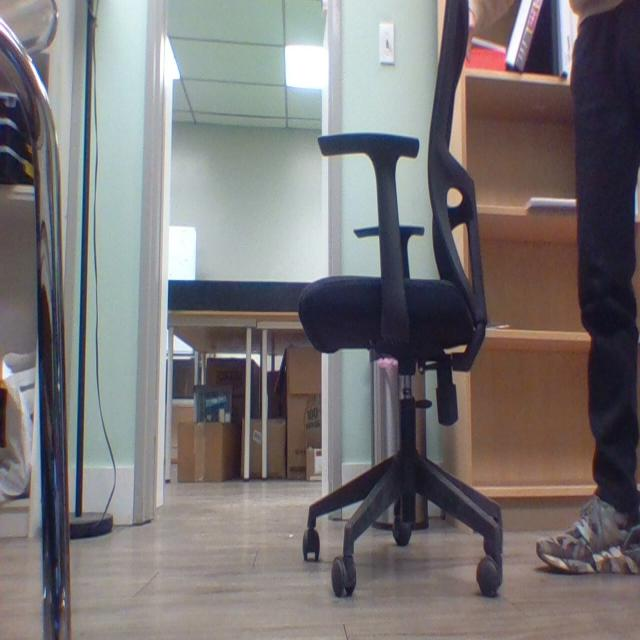black-chair: (291, 2, 507, 639)
